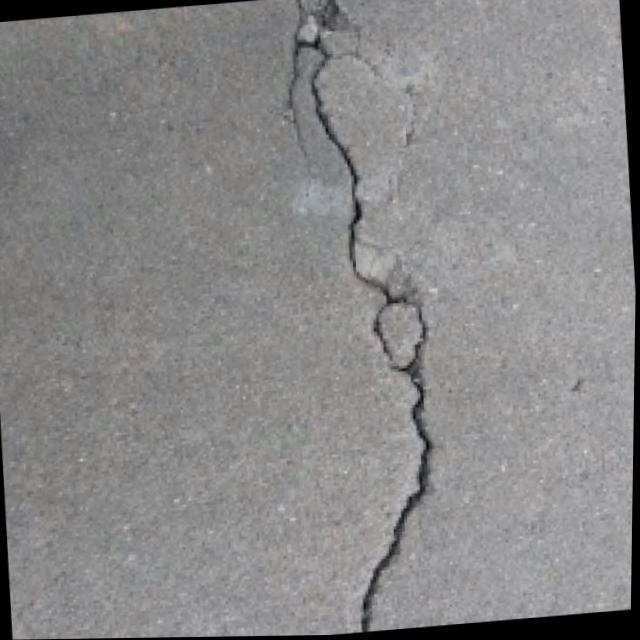Crack: (247, 0, 530, 637)
